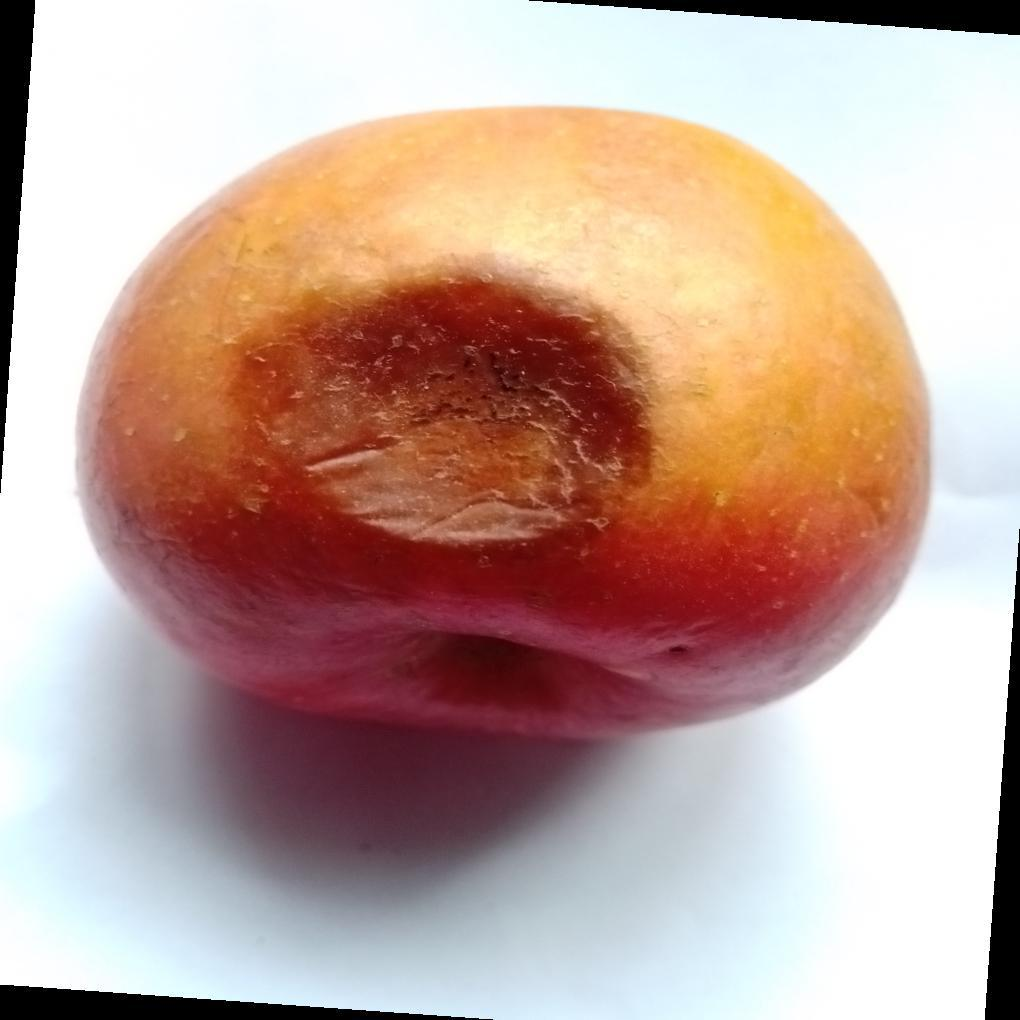FreshOrange: (73, 107, 935, 749)
